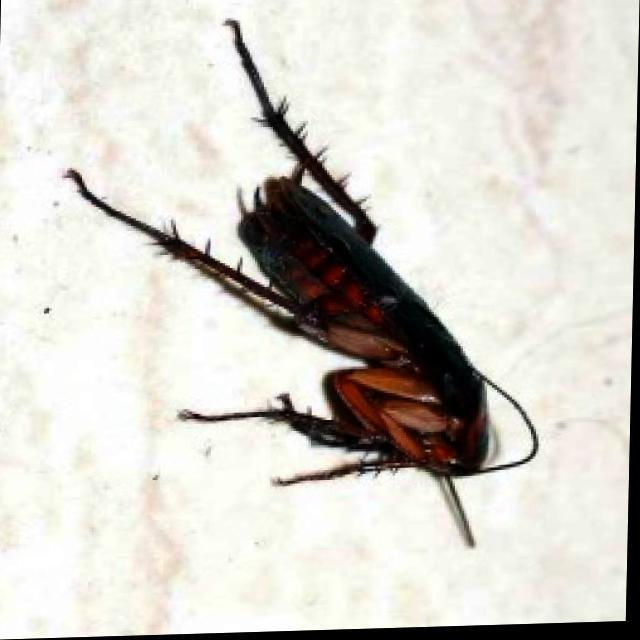cockroach: (55, 16, 544, 551)
